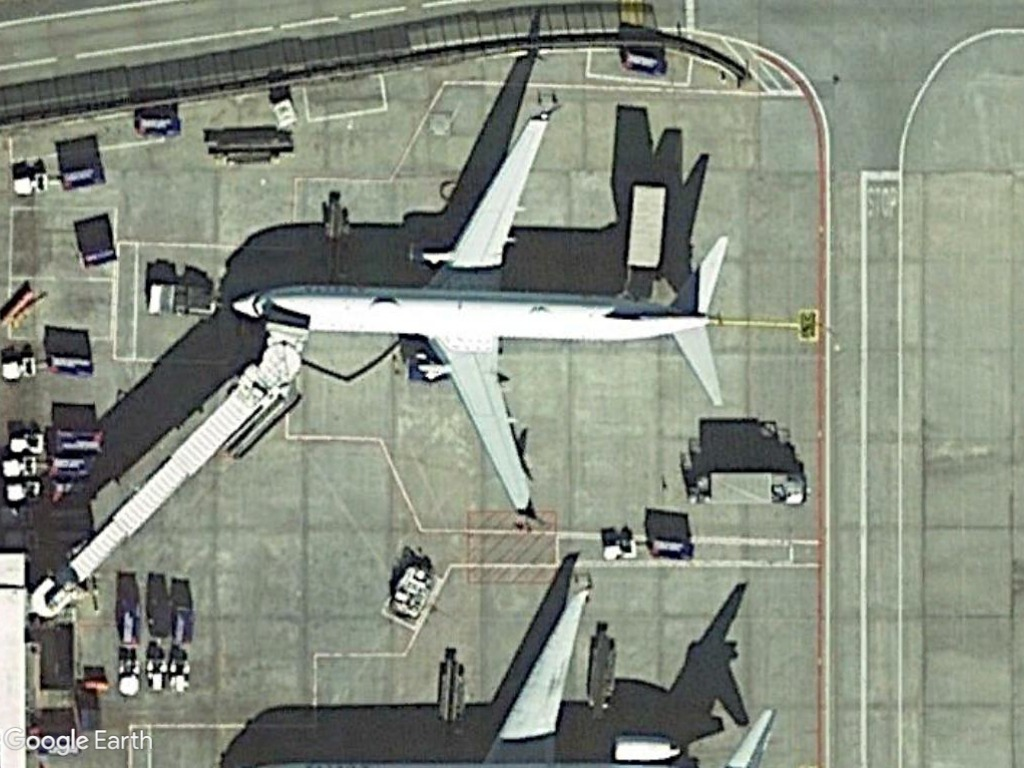airliner: (223, 100, 728, 524)
truck: (615, 178, 670, 292)
